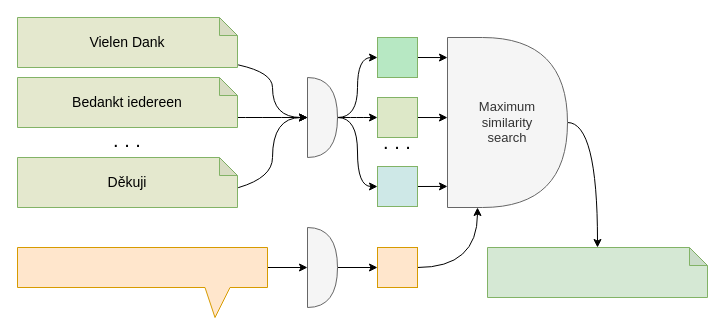
Some shapes in this 725 by 335 pixel diagram are drawn without their labels. Here are the shapes that lost their labels. From the top down, the centre of each, then its label:
At pixel 142 282: "How to conclude a presentation?".
At pixel 597 272: "Thank you".
